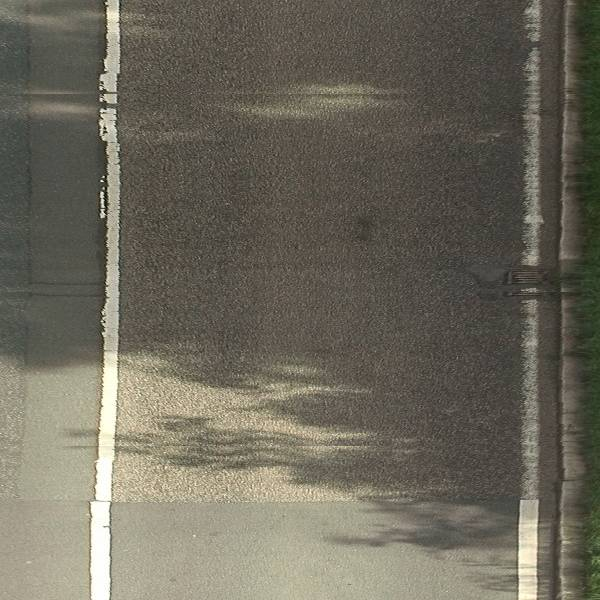road_damage: (121, 482, 513, 526), (448, 254, 508, 308)
